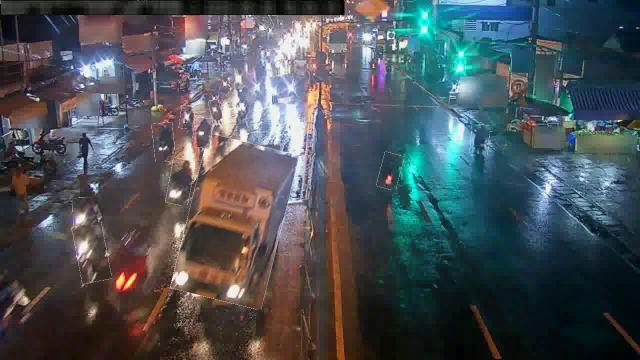Bike: (114, 239, 148, 309), (74, 223, 110, 283), (167, 158, 193, 206), (378, 152, 402, 190), (153, 122, 175, 162), (74, 198, 98, 226), (470, 124, 490, 156), (192, 118, 212, 148), (180, 106, 194, 130), (210, 99, 222, 125), (236, 98, 248, 122), (234, 82, 243, 96)
Car: (272, 74, 296, 102)
Truck: (180, 138, 290, 306)
